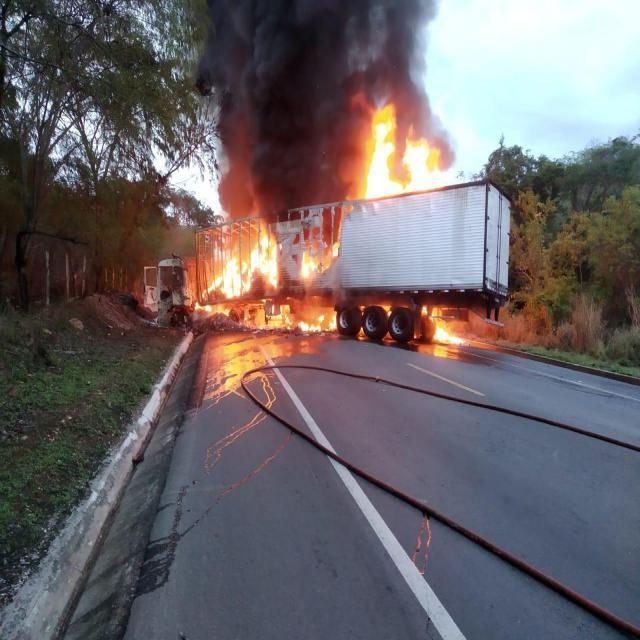Fire: (361, 108, 438, 200), (202, 235, 282, 298), (267, 304, 334, 332), (426, 308, 464, 344), (299, 250, 321, 278), (331, 239, 341, 259), (193, 302, 213, 312)
